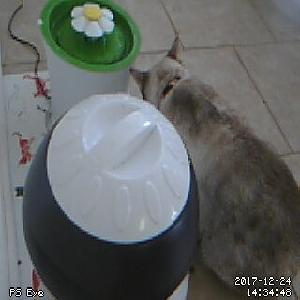cat: (129, 33, 300, 294)
fountain: (37, 1, 141, 73)
